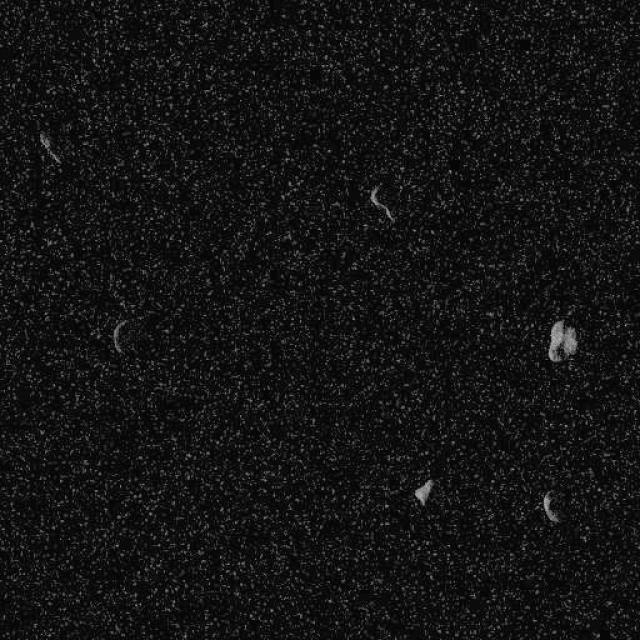D2: (546, 318, 578, 362), (367, 181, 395, 224), (36, 129, 62, 165), (541, 488, 565, 524), (111, 317, 131, 355), (412, 478, 433, 507)
